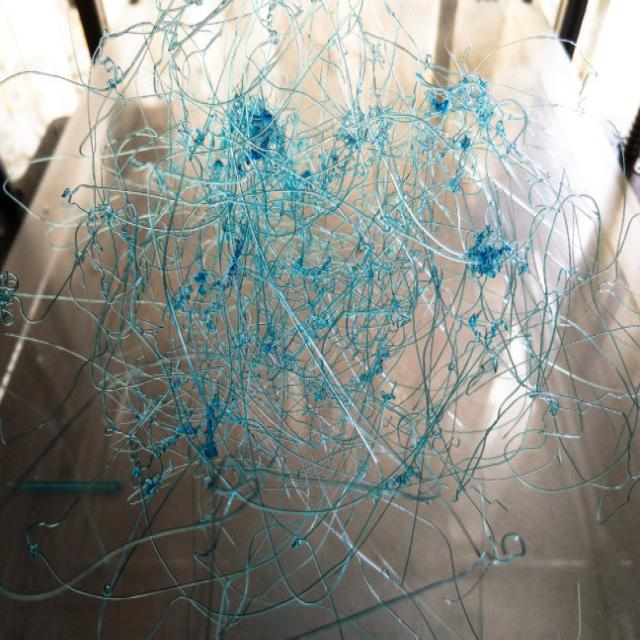spaghetti: (104, 85, 593, 571)
